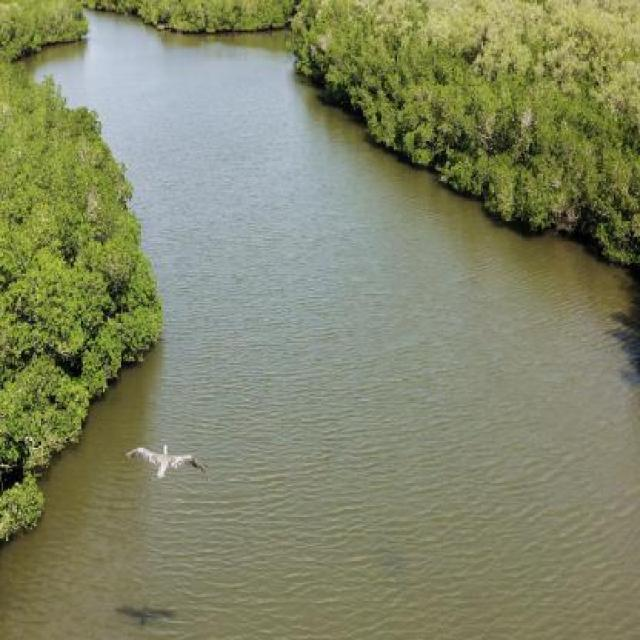bird: (116, 435, 196, 491)
